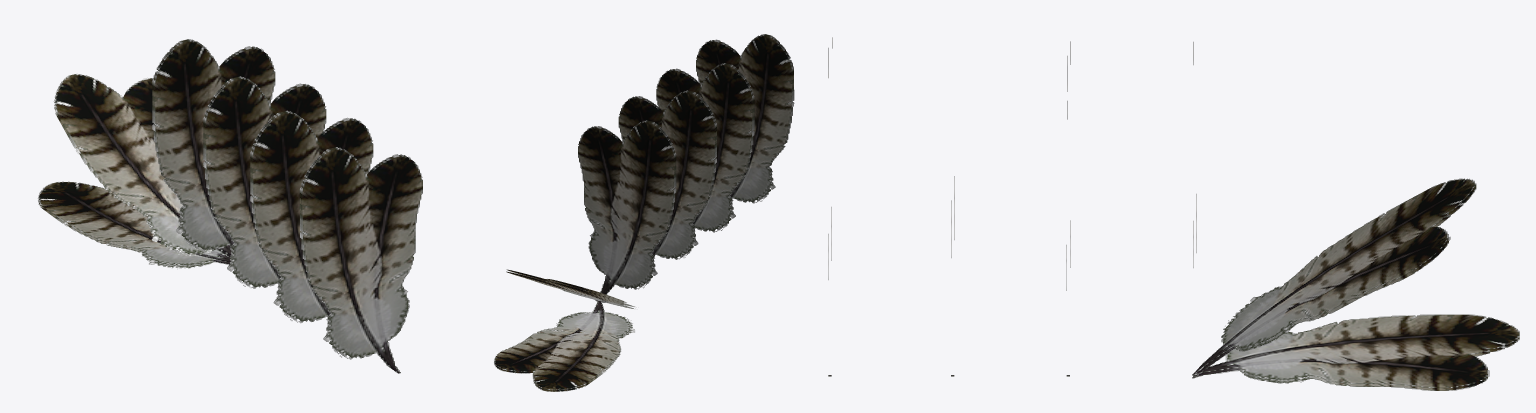
File: helmet_mapu_plumes_c.dae
The picture shows the model from 3 angles, left to right: view 1: azimuth 30°, elevation 25°; view 2: azimuth 150°, elevation 25°; view 3: azimuth 270°, elevation 25°; orthographic projection. The views are drawn at different scales.
Parts seen in each view (by area): view 1: helmet_plumes_mapu_c; view 2: helmet_plumes_mapu_c; view 3: helmet_plumes_mapu_c.
Boxes of the visible parts, x1,y1,x2,y2 form: helmet_plumes_mapu_c: (37, 39, 422, 373); helmet_plumes_mapu_c: (494, 34, 794, 391); helmet_plumes_mapu_c: (828, 37, 1519, 390).
Bounding box in the file's own units: 0.249 × 0.8636 × 0.413.
